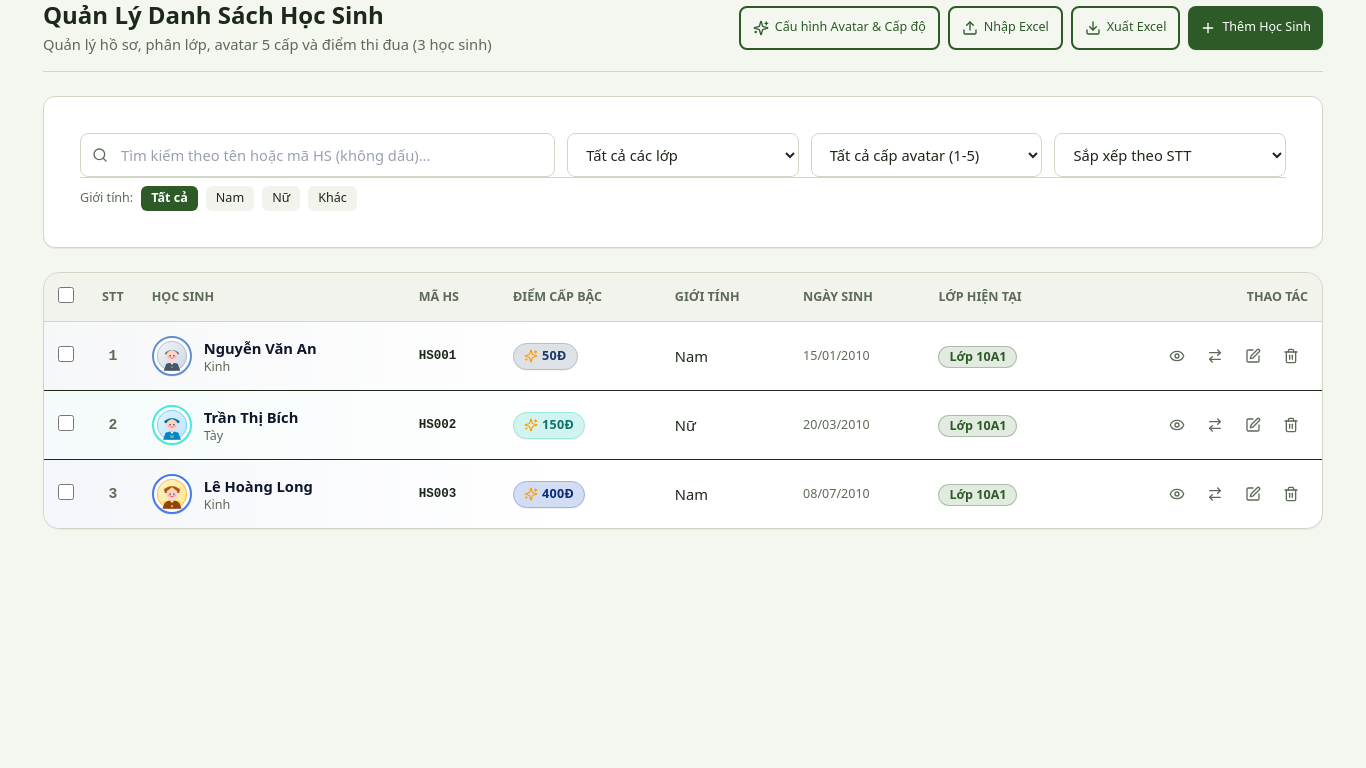
Scenario: StudentsPage UI & 5-Level Avatar Integration Tests (FEAT-AVATAR-002) › 7. Opens bulk delete modal and soft deletes selected students
Expected: the row with test id "student-row-st-1" is shown, [44, 322, 1322, 391]
// Select all using header checkbox
What coordinates should you click on to do the following:
click the checkbox next to "STT"
I would click on:
 (66, 295)
Its box is [58, 287, 74, 303].
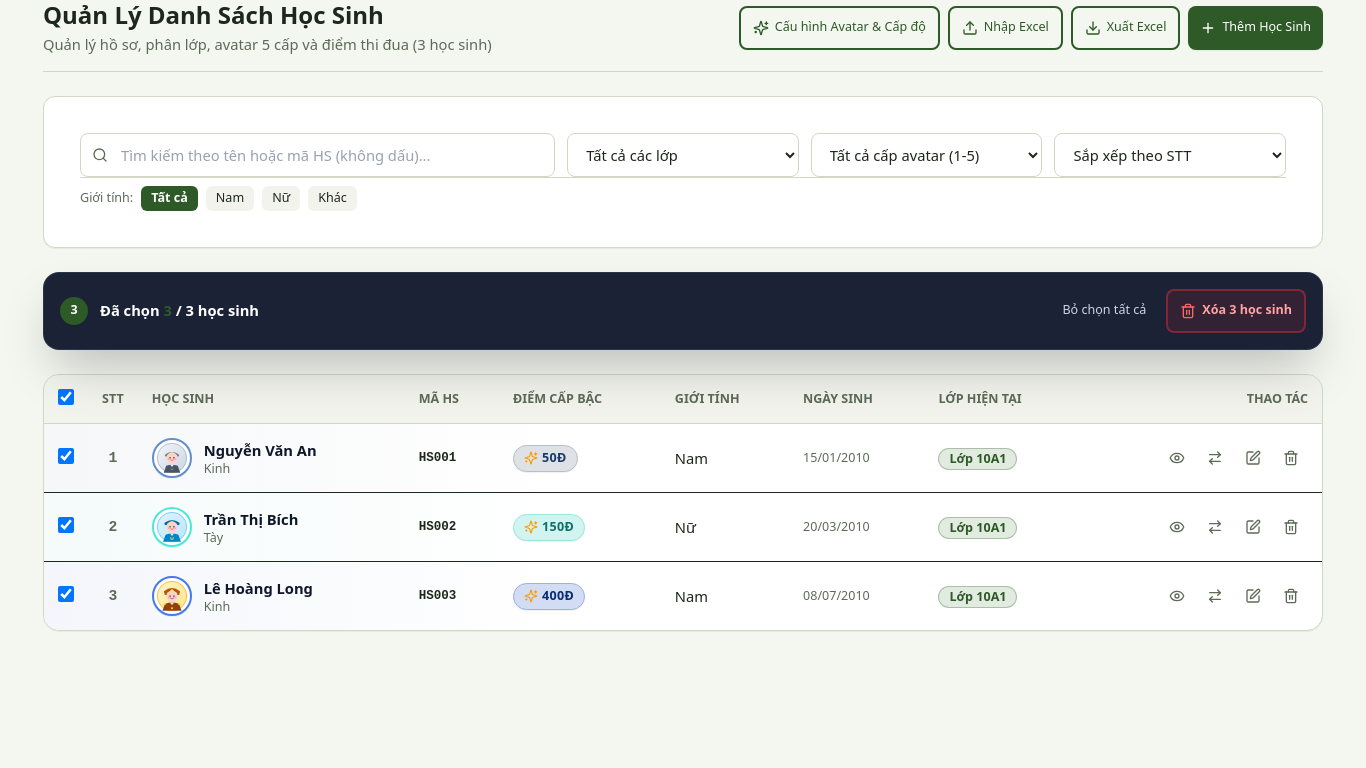
Now the element with test id "bulk-action-bar" is shown, box [43, 272, 1323, 350]
Now the text "Xóa 3 học sinh" is shown, box [1202, 302, 1292, 319]
// Click bulk delete button
What coordinates should you click on to do the following:
click the button with test id "bulk-delete-btn"
I would click on:
 (1236, 311)
Its box is [1166, 289, 1306, 333].
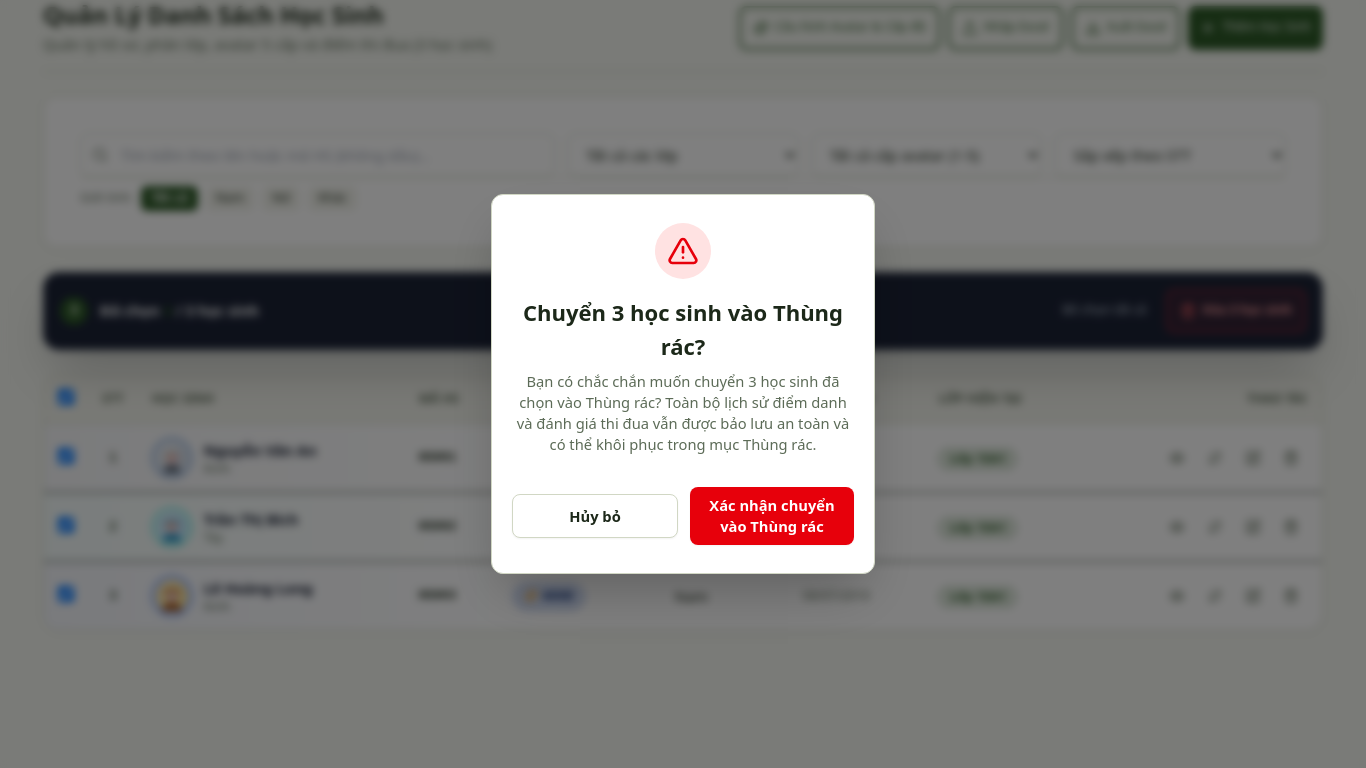
Now the heading "Chuyển 3 học sinh vào Thùng rác?" is shown, box [512, 295, 854, 363]
// Confirm bulk deletion
What coordinates should you click on to do the following:
click the button "Xác nhận chuyển vào Thùng rác"
I would click on:
 (772, 516)
Its box is [690, 487, 854, 545].
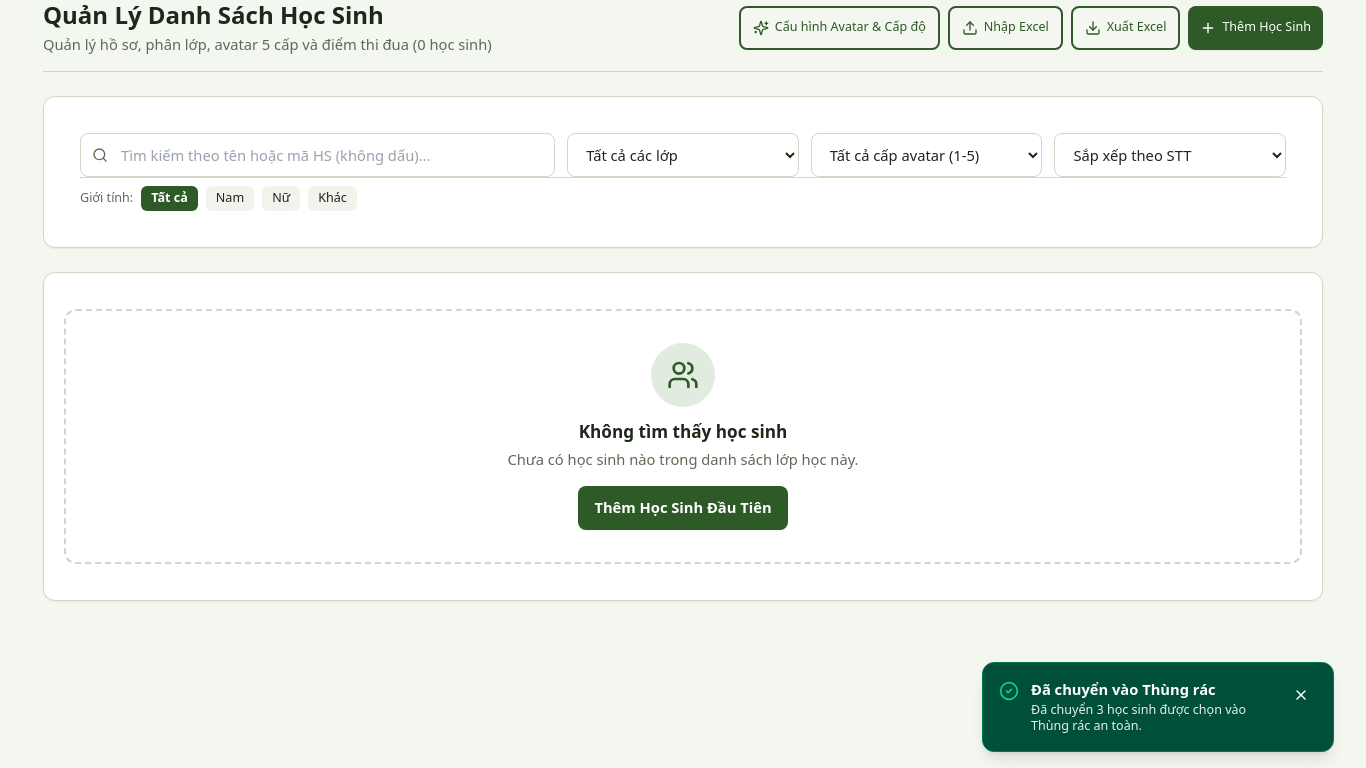
Now the heading "Không tìm thấy học sinh" is shown, box [579, 419, 787, 445]
